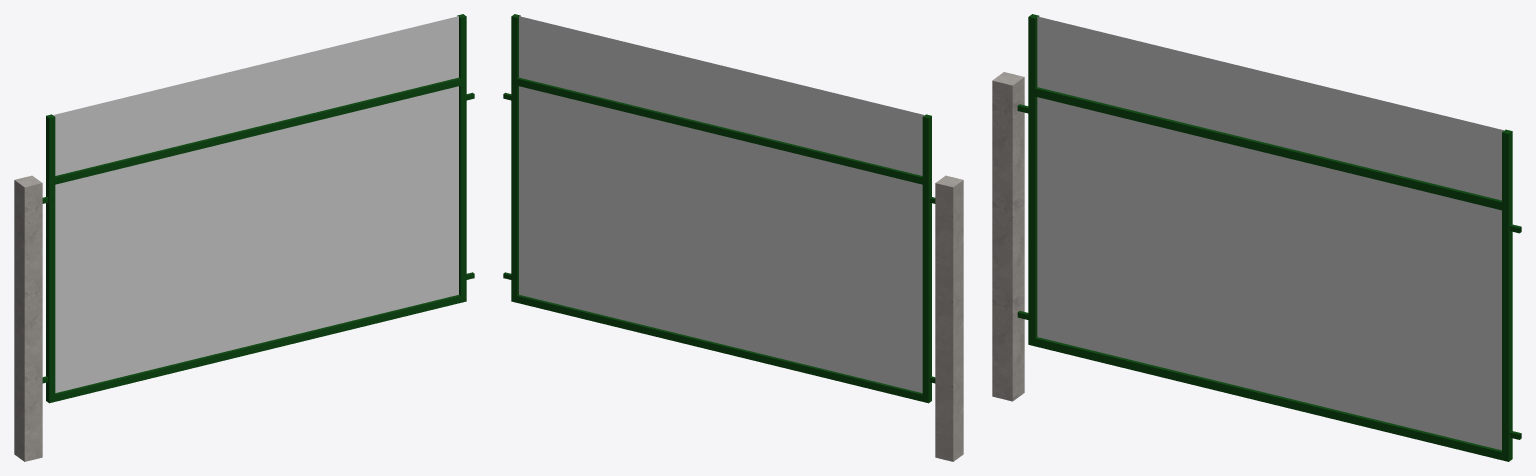
The model's file is 防护网-单片.fbx.
3 renders of one model, left to right at view 1: azimuth 30°, elevation 25°; view 2: azimuth 150°, elevation 25°; view 3: azimuth 330°, elevation 25°, orthographic. The views are drawn at different scales.
Visible parts, largest first — view 1: 铁路护网02.001; view 2: 铁路护网02.001; view 3: 铁路护网02.001.
Boxes of the visible parts, x1,y1,x2,y2 form: 铁路护网02.001: [14, 14, 474, 461]; 铁路护网02.001: [503, 14, 963, 461]; 铁路护网02.001: [992, 14, 1521, 461].
Bounding box in the file's own units: 381 × 268 × 15.
